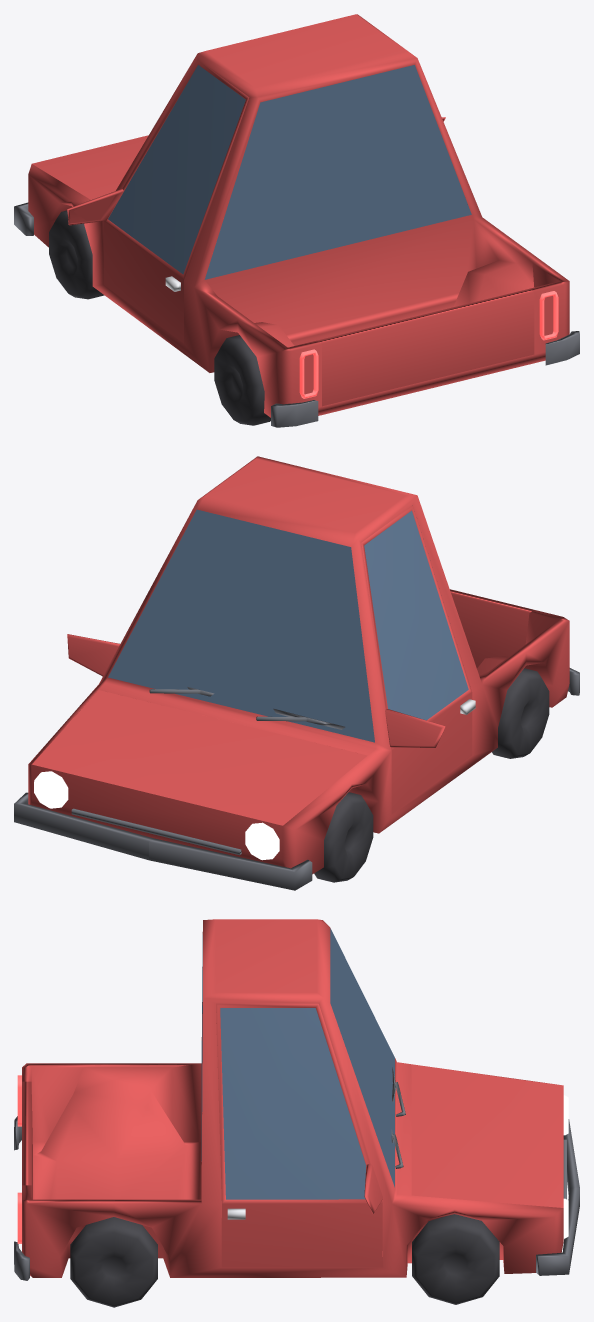
Rendered from cv-pickup.glb.
3 views of the same model, one above another, from view 1: azimuth 30°, elevation 25°; view 2: azimuth 150°, elevation 25°; view 3: azimuth 270°, elevation 25° (orthographic).
Parts seen in each view (by area): view 1: CarMesh, WindowBack.2, Back, Window.2, ID200, Hood, WheelRL, WheelFL, BumperRear, ID218, ID327, ID345; view 2: CarMesh, WindowFront.2, Hood, Window.2, BumperFront, ID200, Back, WheelRL, WheelFL, ID218, ID173, Grille (+2 smaller); view 3: CarMesh, Window, Hood, ID155, WindowFront.2, WheelFR, WheelRR, BumperFront, Back, BumperRear, ID173.
Part boxes in pixels (left/top/right/bottom): CarMesh: left=28, top=14, right=569, bottom=417; WindowBack.2: left=204, top=65, right=471, bottom=279; Back: left=317, top=288, right=534, bottom=406; Window.2: left=108, top=65, right=245, bottom=274; ID200: left=103, top=60, right=249, bottom=343; Hood: left=32, top=135, right=148, bottom=199; WheelRL: left=214, top=335, right=270, bottom=425; WheelFL: left=49, top=210, right=104, bottom=299; BumperRear: left=271, top=331, right=579, bottom=427; ID218: left=67, top=189, right=123, bottom=225; ID327: left=539, top=291, right=558, bottom=340; ID345: left=299, top=349, right=318, bottom=398; CarMesh: left=28, top=456, right=569, bottom=874; WindowFront.2: left=108, top=509, right=374, bottom=742; Hood: left=32, top=690, right=367, bottom=825; Window.2: left=364, top=510, right=468, bottom=720; BumperFront: left=14, top=792, right=312, bottom=890; ID200: left=361, top=505, right=472, bottom=814; Back: left=450, top=589, right=533, bottom=668; WheelRL: left=492, top=668, right=549, bottom=758; WheelFL: left=314, top=792, right=373, bottom=882; ID218: left=385, top=709, right=445, bottom=747; ID173: left=67, top=634, right=120, bottom=676; Grille: left=71, top=808, right=241, bottom=855; CarMesh: left=22, top=919, right=563, bottom=1277; Window: left=220, top=1008, right=366, bottom=1199; Hood: left=411, top=1064, right=563, bottom=1207; ID155: left=216, top=1003, right=382, bottom=1267; WindowFront.2: left=330, top=928, right=394, bottom=1187; WheelFR: left=412, top=1214, right=499, bottom=1304; WheelRR: left=70, top=1217, right=157, bottom=1307; BumperFront: left=536, top=1119, right=579, bottom=1275; Back: left=22, top=1081, right=32, bottom=1199; BumperRear: left=14, top=1116, right=29, bottom=1280; ID173: left=364, top=1164, right=382, bottom=1213.
Size of the model in its own units: 2.62 by 1.87 by 3.4.
